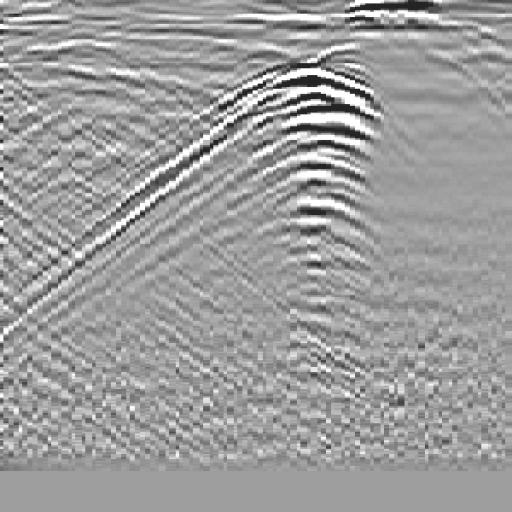metalic: (131, 49, 442, 348)
